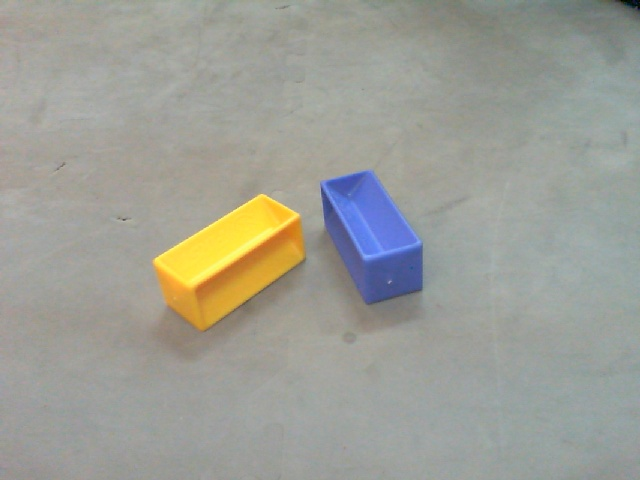BlueSample: (316, 167, 428, 309)
YellowSample: (149, 190, 310, 333)
